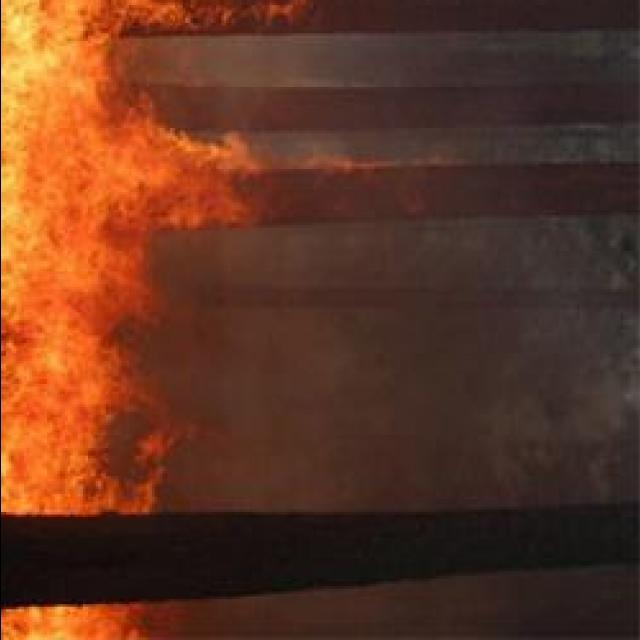fire: (8, 142, 230, 214), (0, 228, 127, 311), (0, 2, 110, 80), (0, 346, 98, 413), (2, 430, 96, 490), (0, 611, 132, 640), (15, 88, 96, 124)
smoke: (277, 283, 449, 442), (482, 283, 578, 377), (249, 459, 367, 497), (226, 48, 394, 72), (223, 290, 250, 410), (292, 601, 462, 620)
